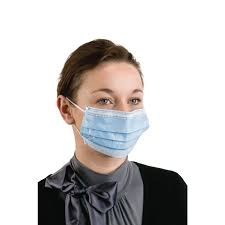mask: (83, 106, 149, 157)
